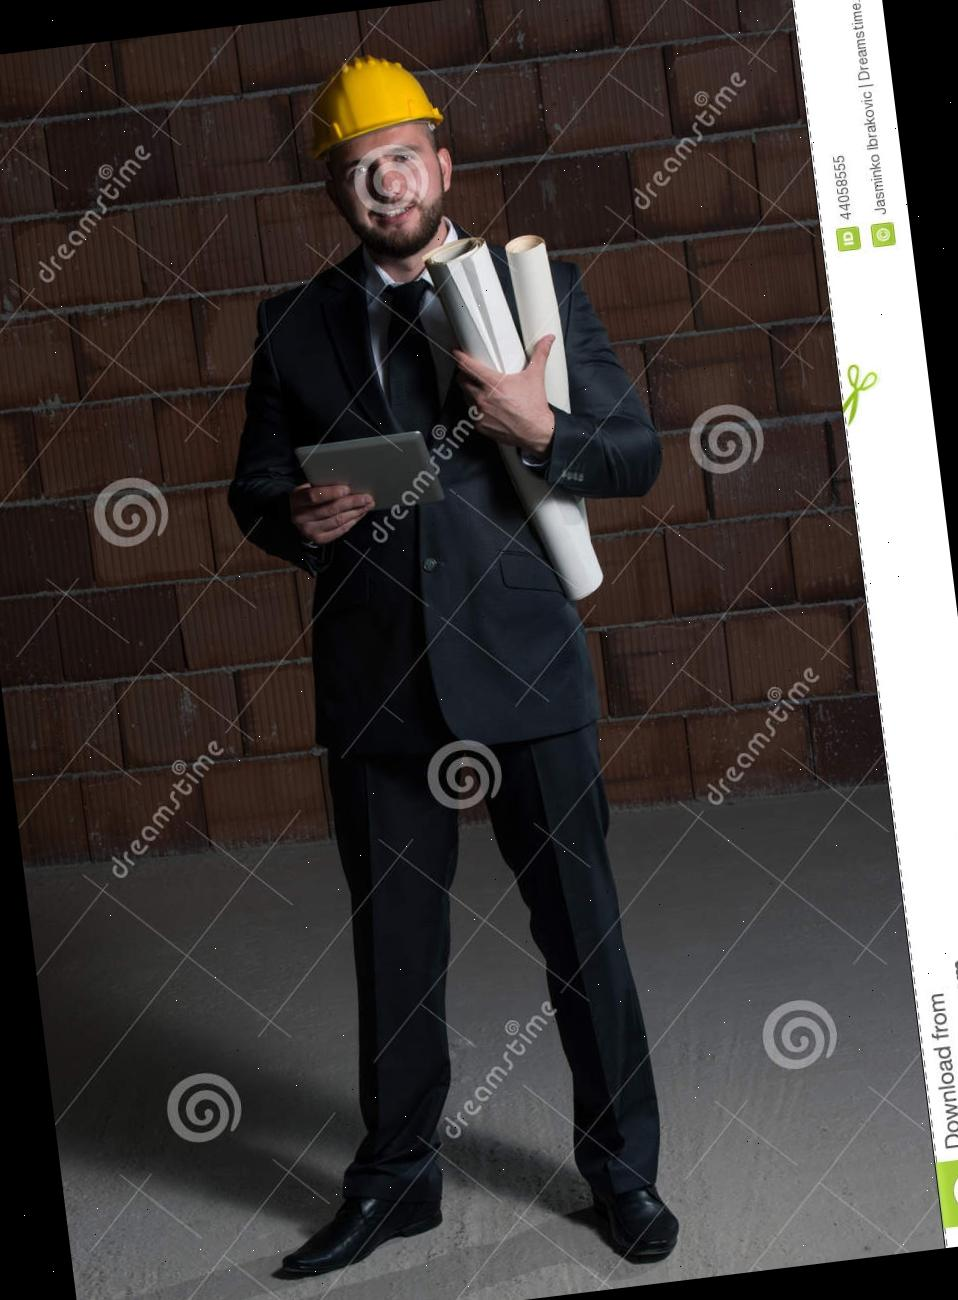helmet: (300, 42, 450, 160)
no_wear: (257, 249, 610, 745)
